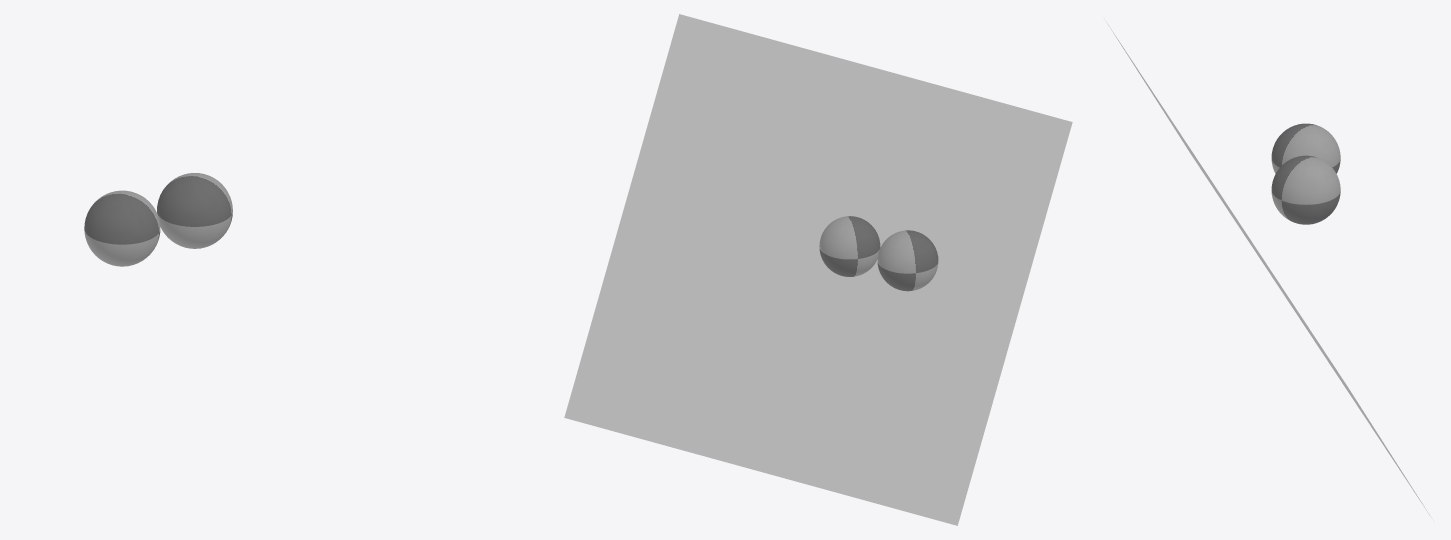
Rendered from khronos emissive balls.gltf.
3 views of the same model, side by side, from view 1: azimuth 30°, elevation 25°; view 2: azimuth 150°, elevation 25°; view 3: azimuth 270°, elevation 25° (orthographic). The views are drawn at different scales.
Visible parts, largest first — view 1: GeoSphere001, GeoSphere002; view 2: Plane, GeoSphere001, GeoSphere002; view 3: GeoSphere002, GeoSphere001, Plane.
Part boxes in pixels (x1=…): GeoSphere001: x1=84, y1=190, x2=160, y2=266; GeoSphere002: x1=157, y1=173, x2=232, y2=248; Plane: x1=564, y1=14, x2=1072, y2=525; GeoSphere001: x1=877, y1=230, x2=938, y2=291; GeoSphere002: x1=819, y1=216, x2=880, y2=276; GeoSphere002: x1=1271, y1=155, x2=1340, y2=224; GeoSphere001: x1=1271, y1=123, x2=1340, y2=173; Plane: x1=1106, y1=22, x2=1431, y2=517.
Size of the model in its own units: 16.61 by 16.56 by 11.8.
